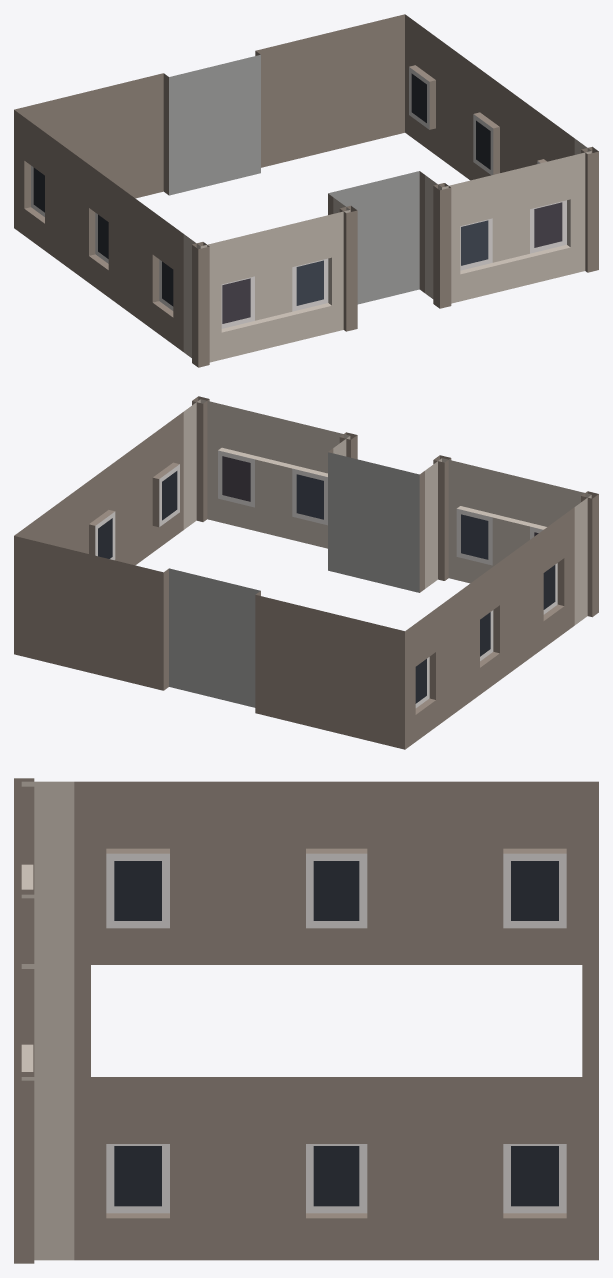
File: building1_middle.fbx
The picture shows the model from 3 angles, top to bottom: view 1: azimuth 30°, elevation 25°; view 2: azimuth 150°, elevation 25°; view 3: azimuth 270°, elevation 25°; orthographic projection. The views are drawn at different scales.
Parts seen in each view (by area): view 1: building1_middle; view 2: building1_middle; view 3: building1_middle.
Part boxes in pixels (x1=…): building1_middle: x1=14, y1=14, x2=598, y2=367; building1_middle: x1=14, y1=396, x2=598, y2=749; building1_middle: x1=14, y1=778, x2=598, y2=1263.
Size of the model in its own units: 884 by 250 by 723.
